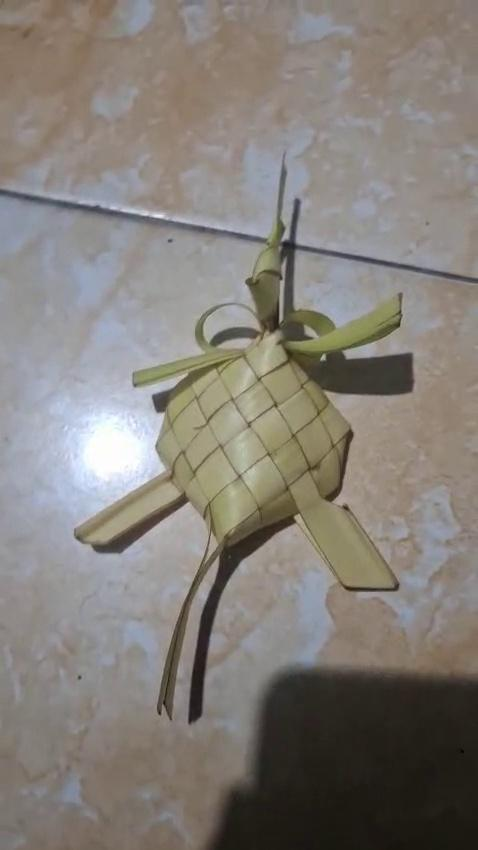Tipat Dampulan: (68, 147, 411, 737)
